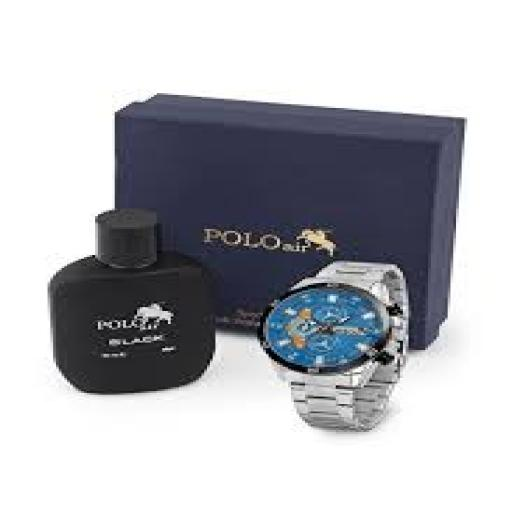KolSaati: (245, 242, 420, 441)
